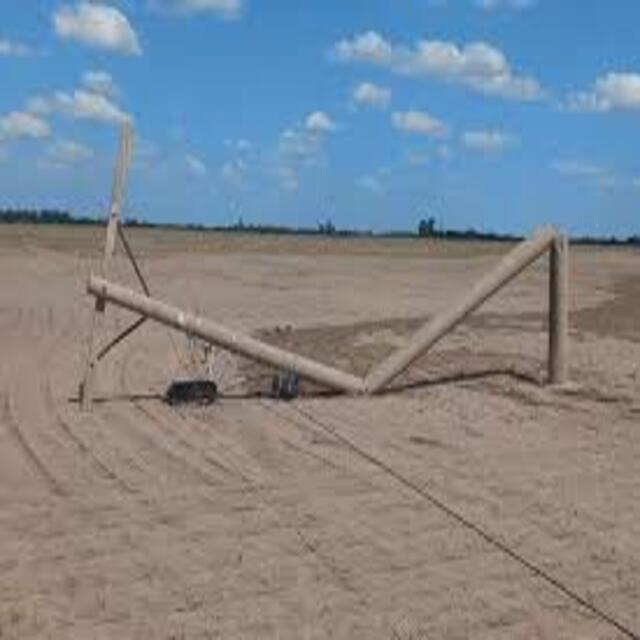Inclined Pole: (66, 115, 572, 410)
